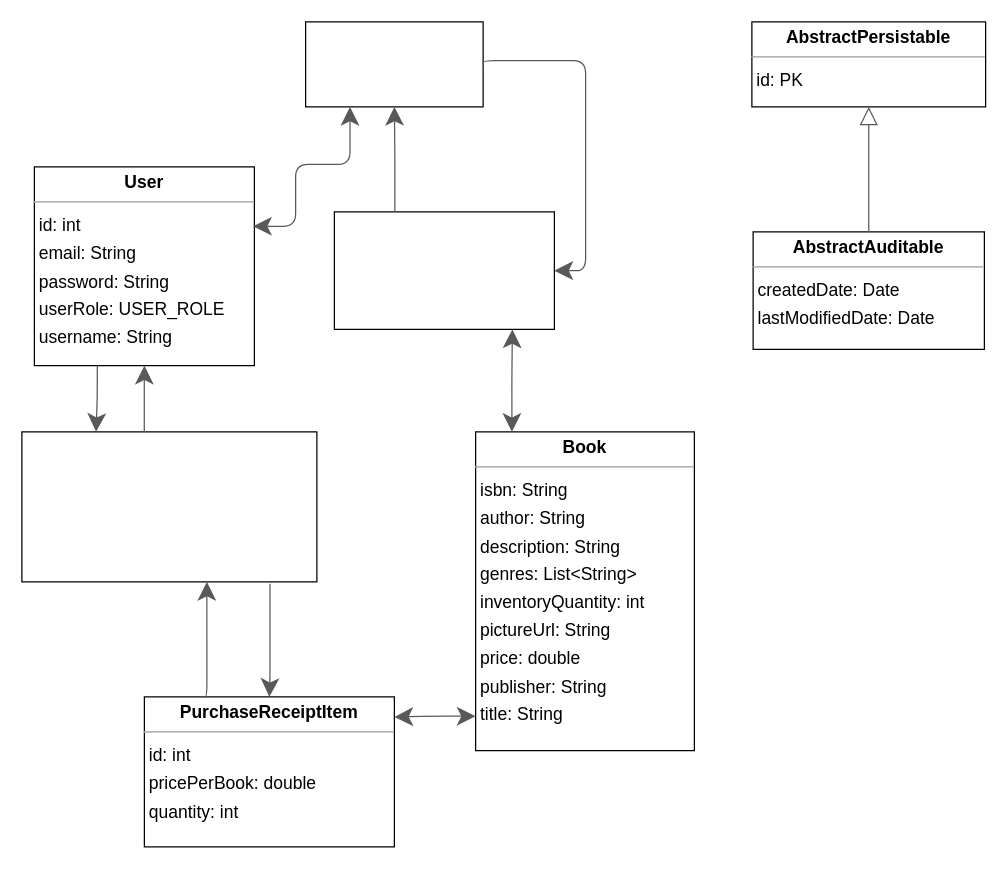
Some shapes in this 1008 by 869 pixel diagram are drawn without their labels. Each missing label, with the centre of its shape:
"PurchaseReceipt id: int orderDateTime: LocalDateTime totalCost: double" belongs at point (169, 506).
"ShoppingCart id: long" belongs at point (393, 64).
"ShoppingCartItem id: int quantity: int" belongs at point (443, 270).
